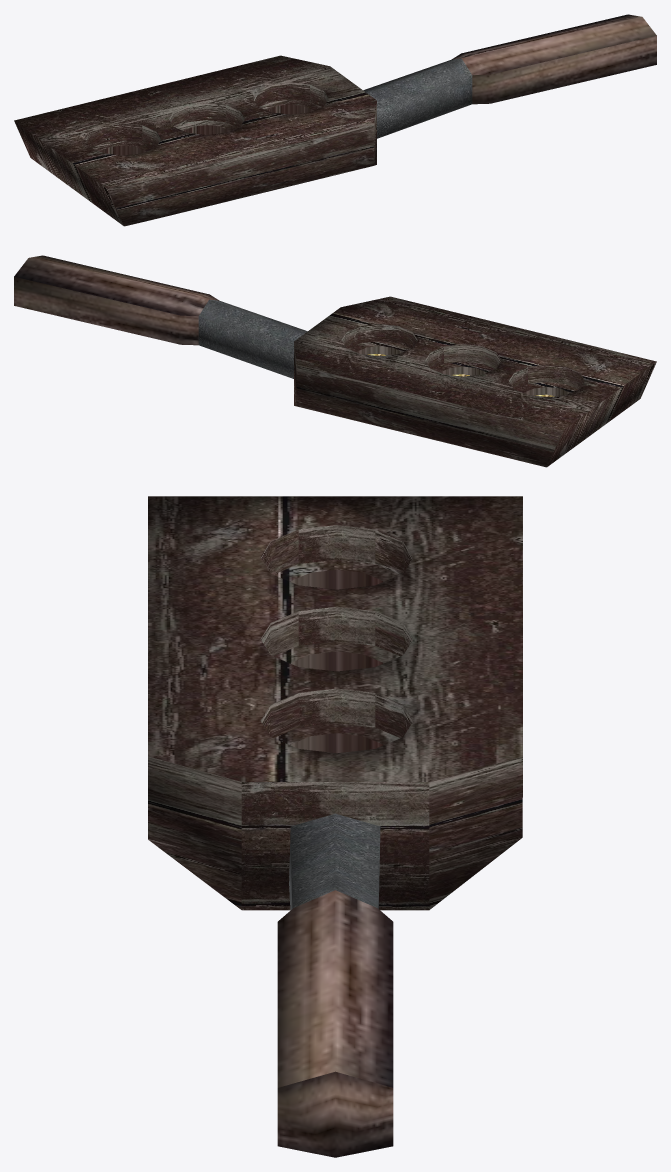
Rendered from ITMI_DARKSAGA_STOCK.glb.
3 renders of one model, top to bottom at view 1: azimuth 30°, elevation 25°; view 2: azimuth 150°, elevation 25°; view 3: azimuth 270°, elevation 25°, orthographic. The views are drawn at different scales.
Parts seen in each view (by area): view 1: Mesh; view 2: Mesh; view 3: Mesh.
Part boxes in pixels (left/top/right/bottom): Mesh: left=14, top=14, right=656, bottom=226; Mesh: left=14, top=255, right=656, bottom=467; Mesh: left=148, top=496, right=522, bottom=1157.
Size of the model in its own units: 0.5769 by 0.0608 by 0.1611.
Materials: 4 (4 with a texture image).
